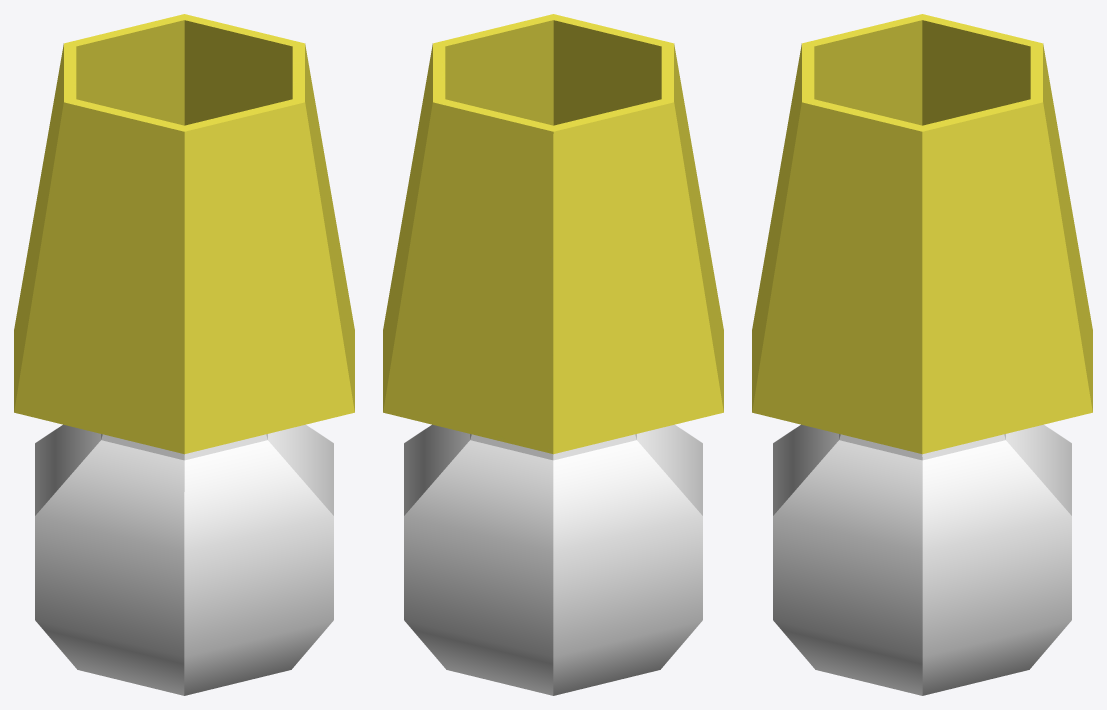
Rendered from lamp.gltf.
The picture shows the model from 3 angles, left to right: view 1: azimuth 30°, elevation 25°; view 2: azimuth 150°, elevation 25°; view 3: azimuth 270°, elevation 25°; orthographic projection.
Visible parts, largest first — view 1: lamp; view 2: lamp; view 3: lamp.
Boxes of the visible parts, x1,y1,x2,y2 form: lamp: (14,14,354,695); lamp: (383,14,723,695); lamp: (752,14,1092,695).
Bounding box in the file's own units: 3.21 × 5.13 × 2.78.
1 material, 1 textured.
